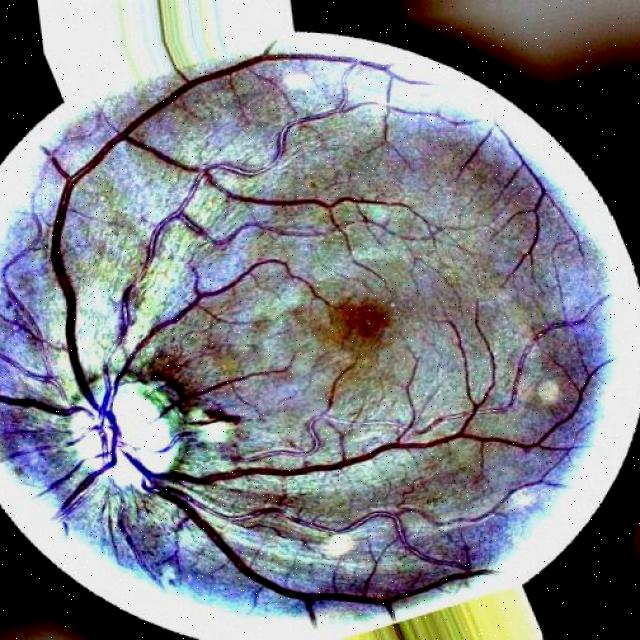Macula: (314, 281, 402, 356)
Nerves: (120, 357, 591, 606), (46, 50, 295, 424), (97, 157, 389, 421), (0, 383, 98, 431)
Optic Disk: (50, 360, 206, 501)
